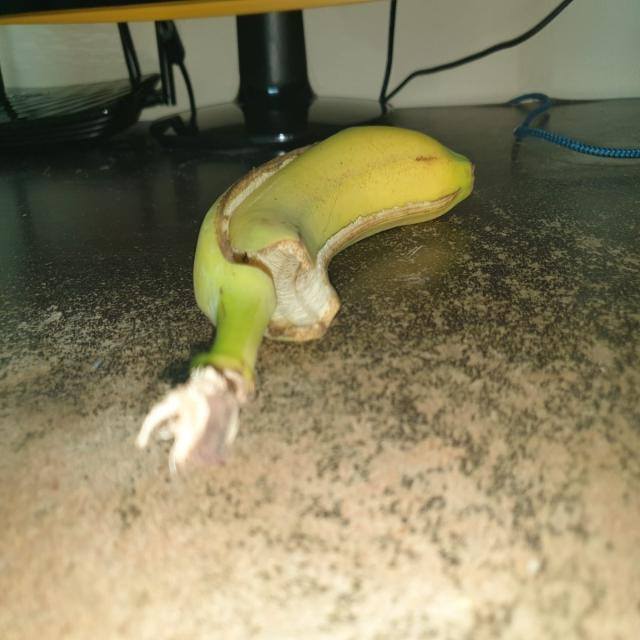banana-peel: (134, 122, 475, 479)
